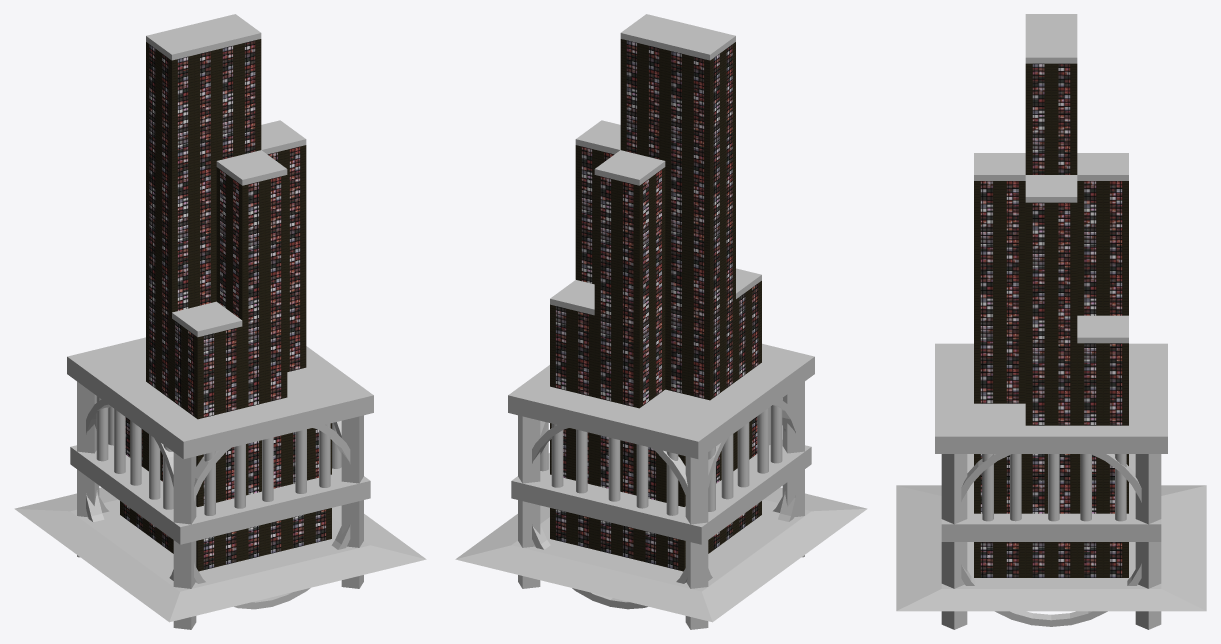
Rendered from Haus3.dae.
The picture shows the model from 3 angles, left to right: view 1: azimuth 30°, elevation 25°; view 2: azimuth 150°, elevation 25°; view 3: azimuth 270°, elevation 25°; orthographic projection.
Visible parts, largest first — view 1: cube8, cube45, cube7, cube19, cube36, cube3, cube6, dachplatte12, cube26, cube2, cube27, user_defined20 (+15 smaller); view 2: cube8, cube5, cube45, cube19, cube36, cube4, dachplatte12, cube3, cube6, cube25, cube1, cube24 (+15 smaller); view 3: cube45, cube6, cube19, cube7, cube4, cube5, cube36, cube8, cube2, cube27, cube24, dachplatte12 (+10 smaller).
Part boxes in pixels (x1,y1,x2,y2): cube8: (146, 39, 261, 552); cube45: (14, 487, 426, 622); cube7: (216, 167, 287, 560); cube19: (67, 337, 373, 459); cube36: (70, 444, 370, 544); cube3: (172, 319, 242, 571); cube6: (267, 145, 306, 371); dachplatte12: (146, 14, 261, 60); cube26: (173, 452, 196, 629); cube2: (287, 423, 331, 549); cube27: (341, 415, 363, 588); user_defined20: (194, 425, 350, 609); cube8: (620, 39, 735, 552); cube5: (594, 167, 665, 560); cube45: (455, 487, 867, 622); cube19: (508, 343, 814, 459); cube36: (511, 440, 811, 544); cube4: (550, 304, 594, 549); dachplatte12: (620, 14, 735, 60); cube3: (736, 281, 761, 533); cube6: (575, 145, 614, 284); cube25: (685, 452, 708, 629); cube1: (639, 447, 709, 571); cube24: (518, 415, 540, 588); cube45: (896, 485, 1206, 611); cube6: (1025, 202, 1077, 577); cube19: (935, 343, 1167, 453); cube7: (974, 181, 1025, 403); cube4: (1077, 343, 1128, 577); cube5: (1077, 181, 1128, 315); cube36: (941, 454, 1161, 541); cube8: (1025, 63, 1077, 174); cube2: (974, 454, 1025, 577); cube27: (941, 454, 967, 629); cube24: (1135, 454, 1161, 629); dachplatte12: (1025, 14, 1077, 63).
Bounding box in the file's own units: 2944 × 5888 × 3072.
